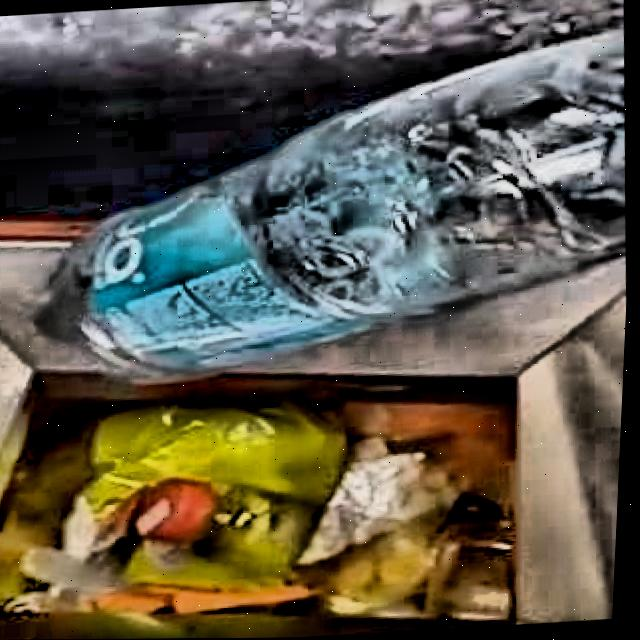plastic: (55, 34, 628, 374)
